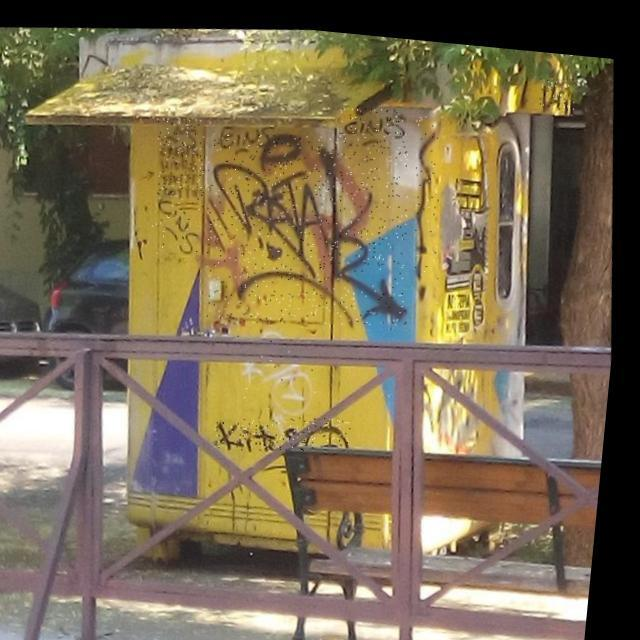-: (196, 112, 427, 333), (404, 105, 456, 295), (235, 316, 329, 412), (220, 400, 360, 455), (152, 112, 214, 212), (152, 192, 206, 255), (339, 96, 409, 132), (214, 110, 274, 150), (538, 64, 580, 106)
